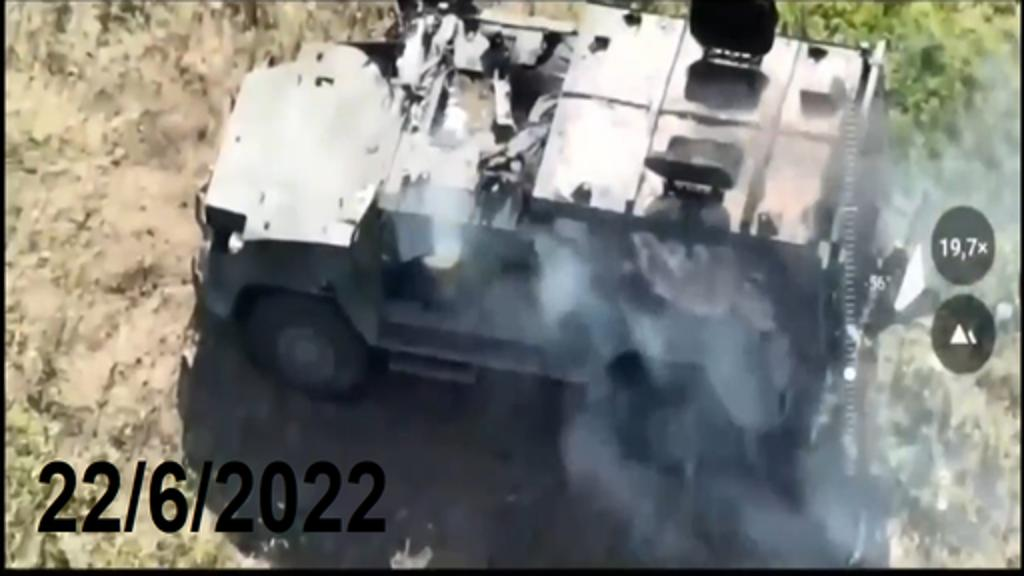CAR: (196, 2, 890, 454)
